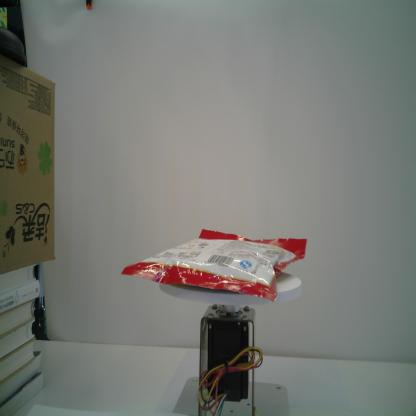Instant Drink: (120, 226, 308, 304)
